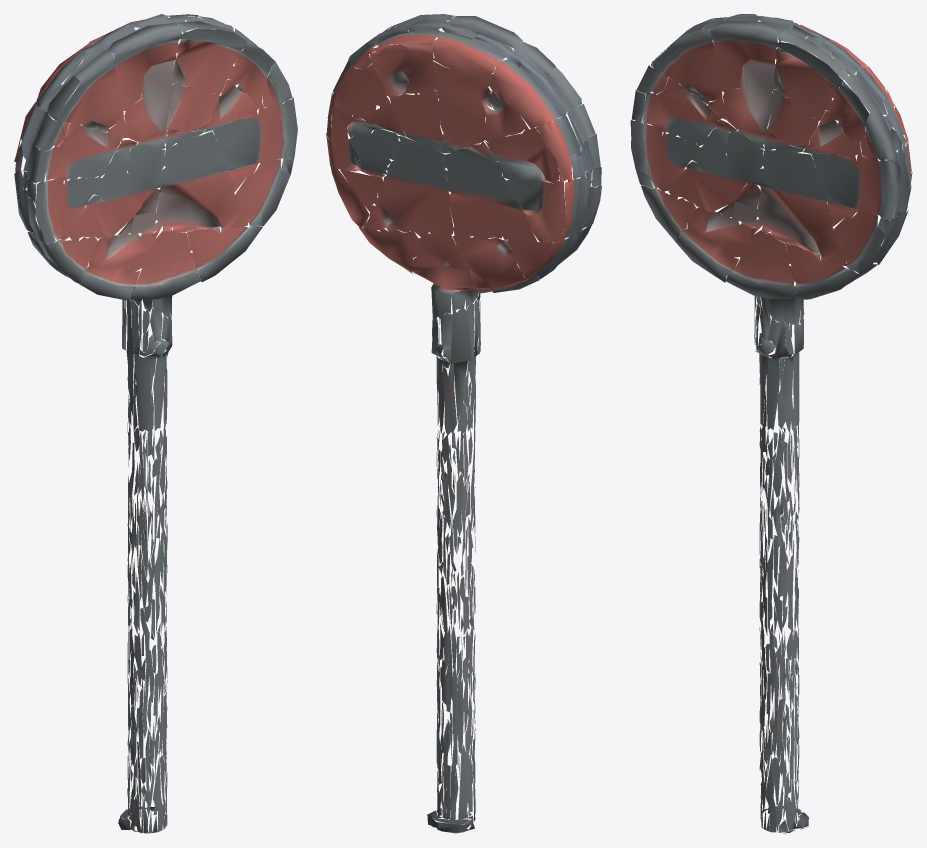
File: prop11.glb
3 views of the same model, side by side, from view 1: azimuth 30°, elevation 25°; view 2: azimuth 150°, elevation 25°; view 3: azimuth 330°, elevation 25° (orthographic). The views are drawn at different scales.
Parts seen in each view (by area): view 1: tripo_node_c78f5d2b-626a-4b57-b49c-2db9edf5c40c; view 2: tripo_node_c78f5d2b-626a-4b57-b49c-2db9edf5c40c; view 3: tripo_node_c78f5d2b-626a-4b57-b49c-2db9edf5c40c.
Boxes of the visible parts, x1,y1,x2,y2 form: tripo_node_c78f5d2b-626a-4b57-b49c-2db9edf5c40c: (14,14,297,833); tripo_node_c78f5d2b-626a-4b57-b49c-2db9edf5c40c: (326,14,601,833); tripo_node_c78f5d2b-626a-4b57-b49c-2db9edf5c40c: (630,14,912,833).
Size of the model in its own units: 0.3461 by 0.9999 by 0.0781.
1 material, 1 textured.
